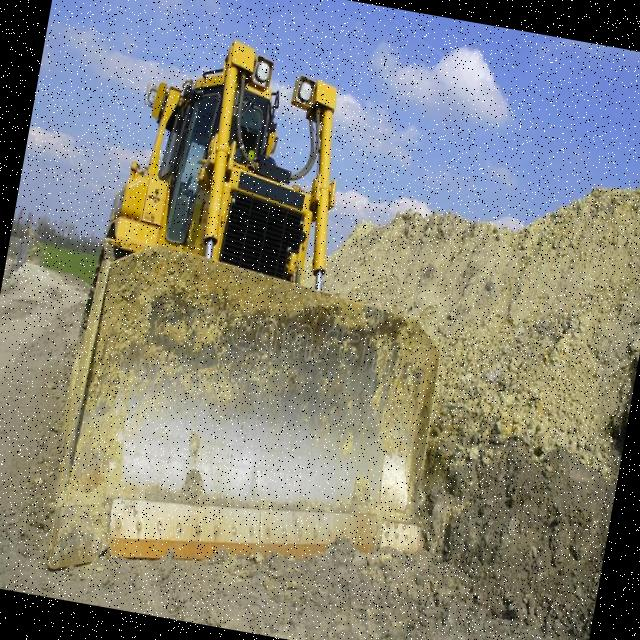Bulldozer: (12, 13, 506, 629)
